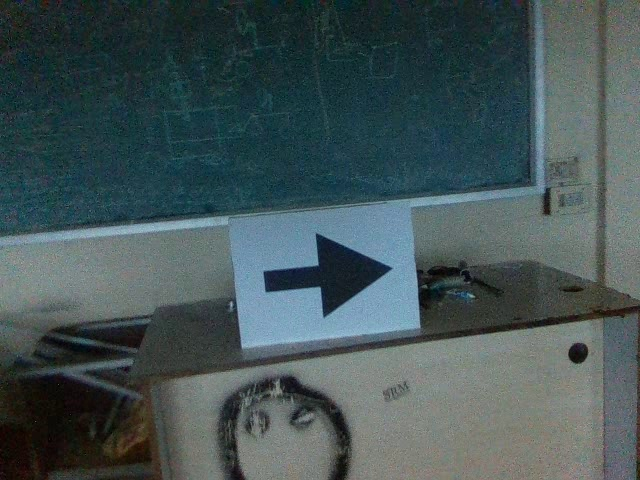Right: (257, 228, 397, 321)
